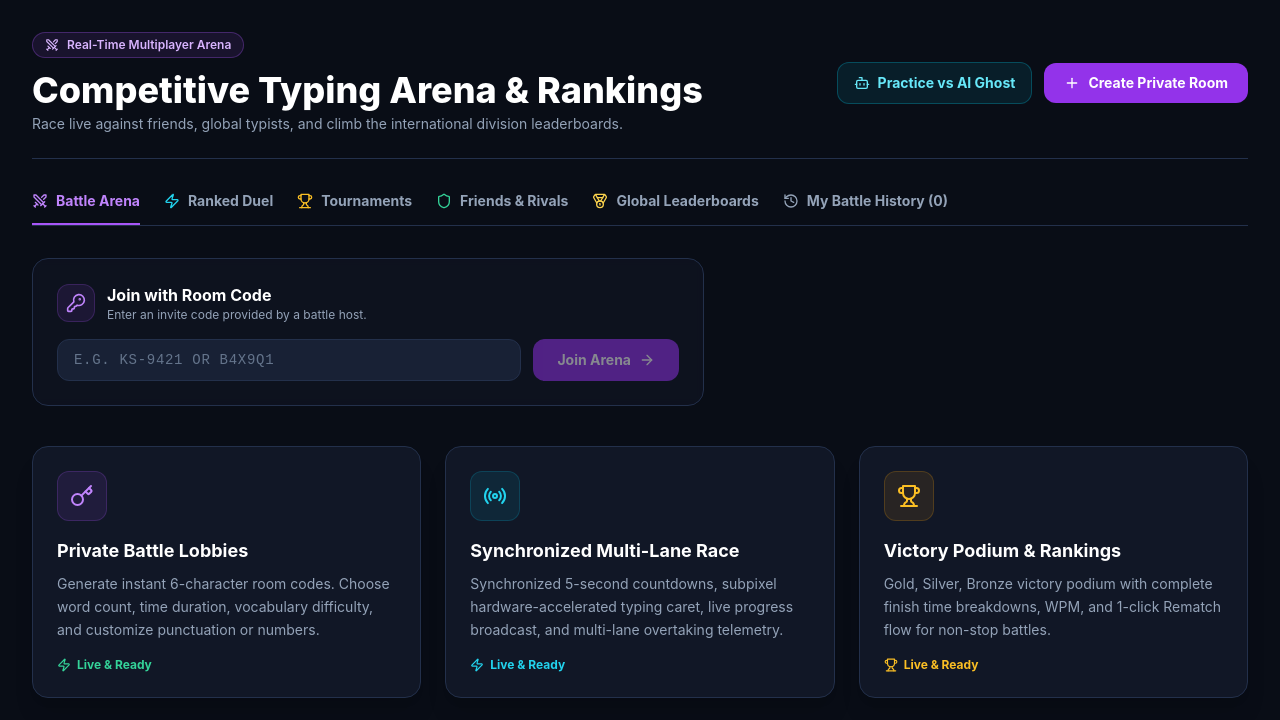
Test: Feature I & J: Real-Time Multiplayer Arena & Races › CompetePage (Arena Hub) › opens and closes the Create Room Modal
Click the button "Create Private Room".
click(1146, 83)  # box left=1044, top=63, right=1248, bottom=103
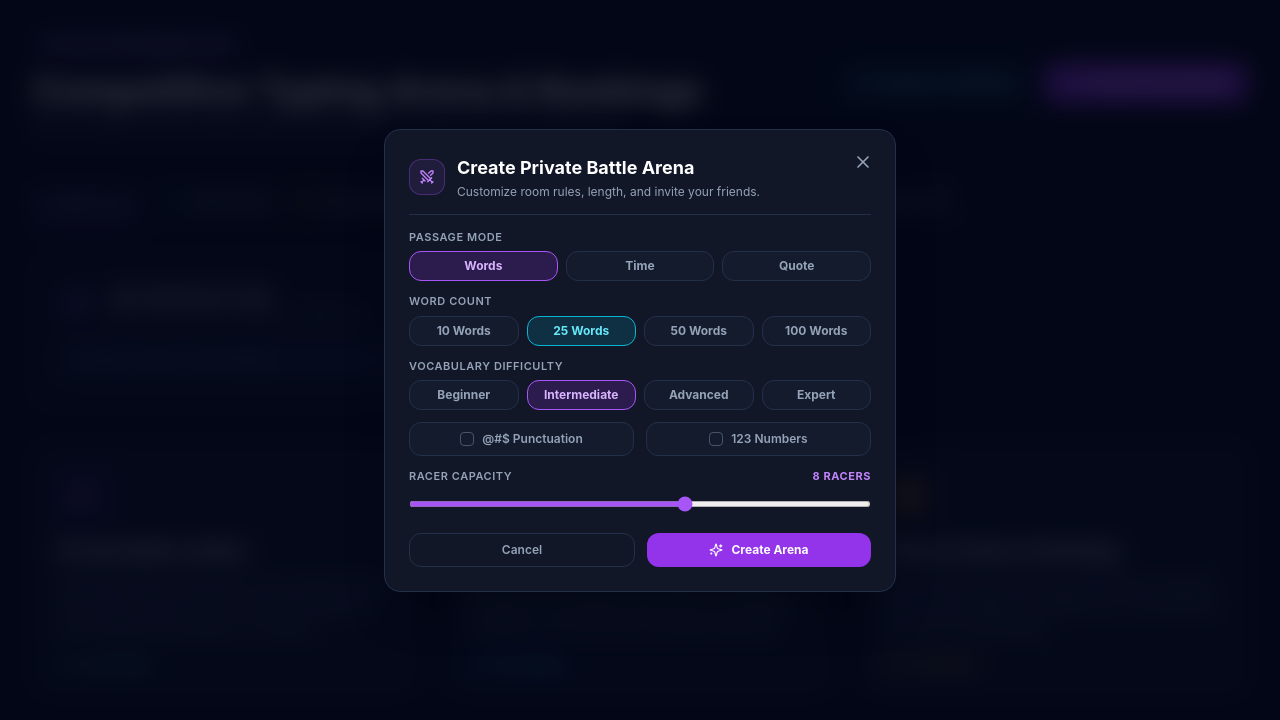
expect the heading "Create Private Battle Arena" is shown: met, box left=457, top=156, right=694, bottom=178
expect the text "Passage Mode" is shown: met, box left=409, top=230, right=502, bottom=244
Click the button "Cancel".
click(522, 550)  # box left=409, top=532, right=635, bottom=566
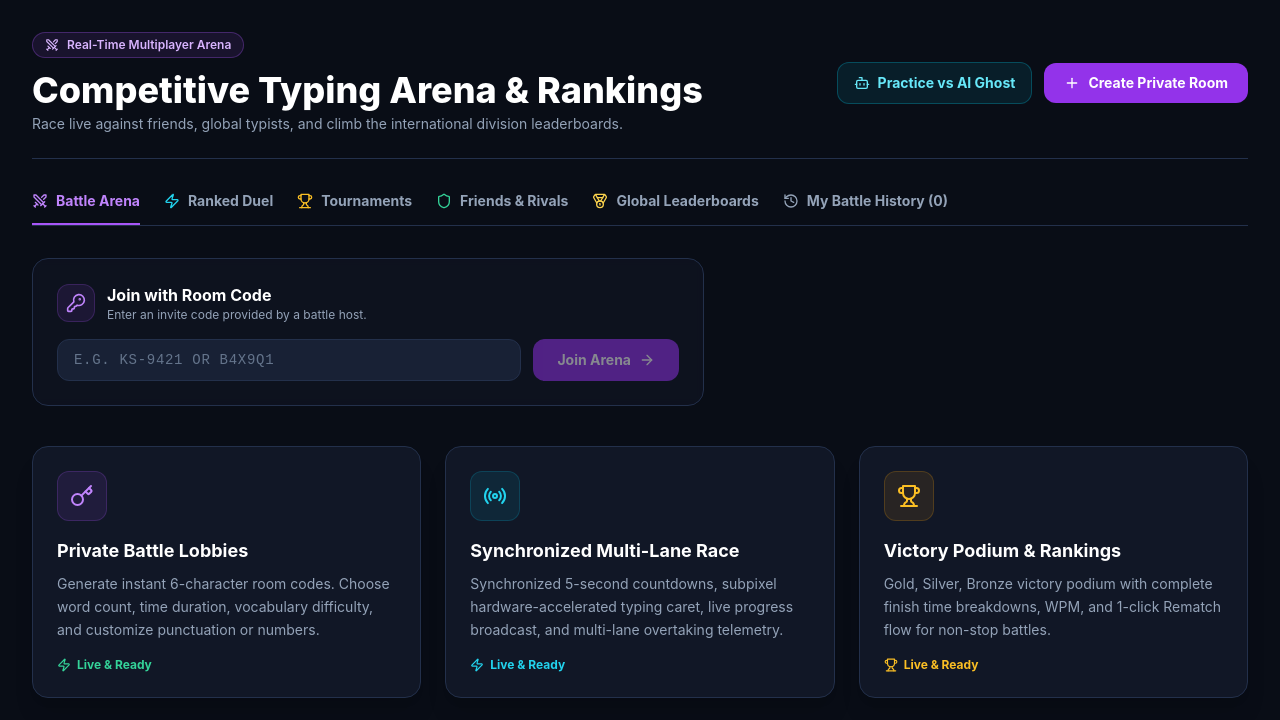
expect the heading "Create Private Battle Arena" is gone: met
